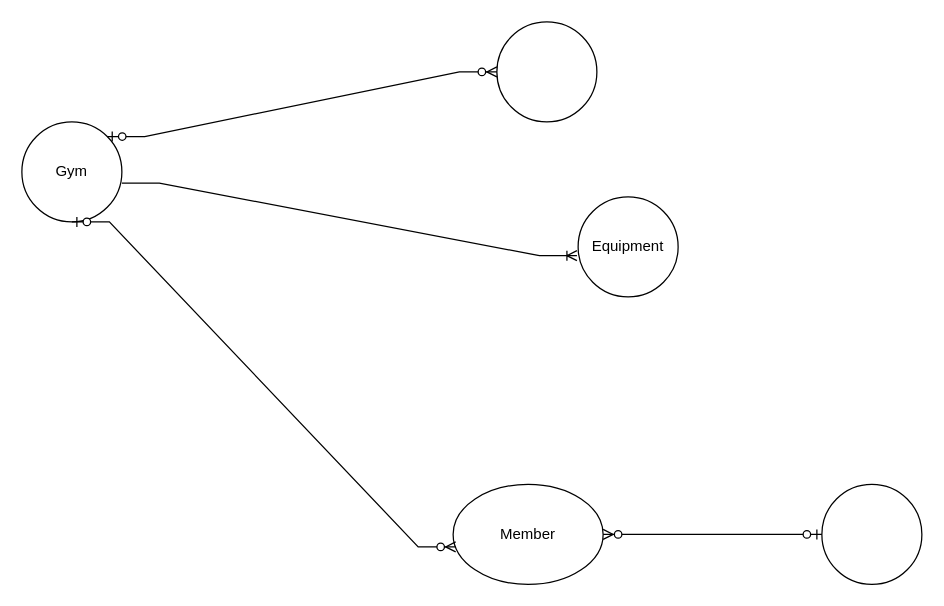
This 944x606 diagram has some shape labels left out. Here are the shapes that lost their labels. From the top down, the centre of each, then its label:
At (546,71): "Trainer".
At (871,533): "Membership".
